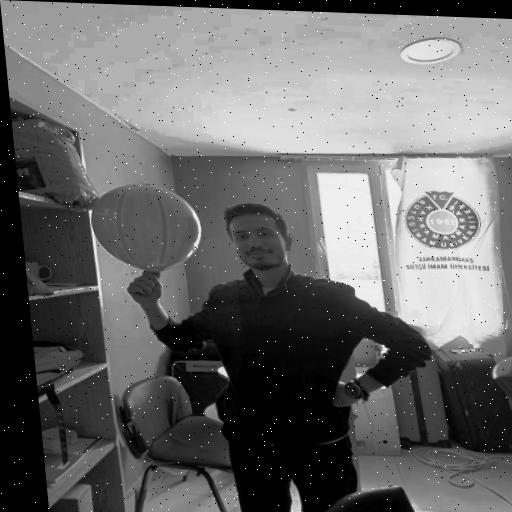balloon: (83, 182, 206, 275)
